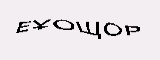Е: (15, 20, 32, 35)
О: (103, 20, 122, 37), (52, 18, 75, 32)
Р: (124, 23, 140, 37)
Щ: (75, 20, 102, 39)
Ұ: (31, 17, 50, 32)
